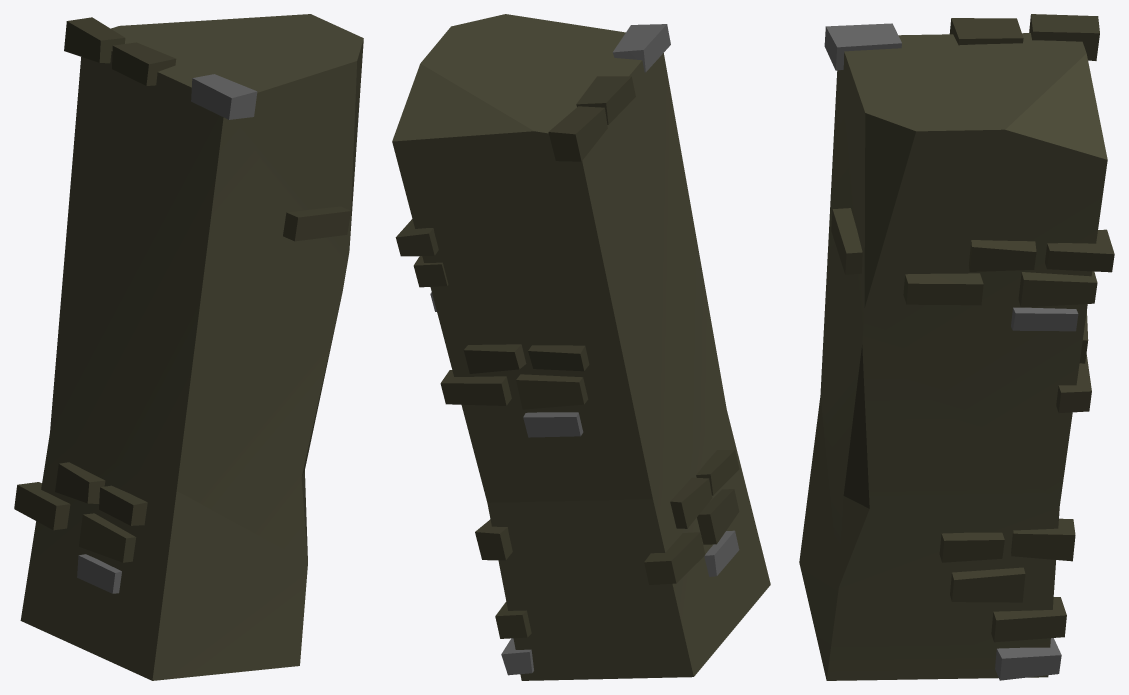
The model's file is ea_arch_wall03_rubble_01e__1__lev1.glb.
3 renders of one model, left to right at view 1: azimuth 30°, elevation 25°; view 2: azimuth 150°, elevation 25°; view 3: azimuth 270°, elevation 25°, orthographic. The views are drawn at different scales.
Parts seen in each view (by area): view 1: ea_arch_wall03_rubble_01e__1__lev1; view 2: ea_arch_wall03_rubble_01e__1__lev1; view 3: ea_arch_wall03_rubble_01e__1__lev1.
Part boxes in pixels (<box>): ea_arch_wall03_rubble_01e__1__lev1: <box>14,14,363,680</box>; ea_arch_wall03_rubble_01e__1__lev1: <box>392,14,770,680</box>; ea_arch_wall03_rubble_01e__1__lev1: <box>799,14,1114,680</box>.
Bounding box in the file's own units: 1.37 × 2.65 × 1.2.
1 material, 1 textured.
